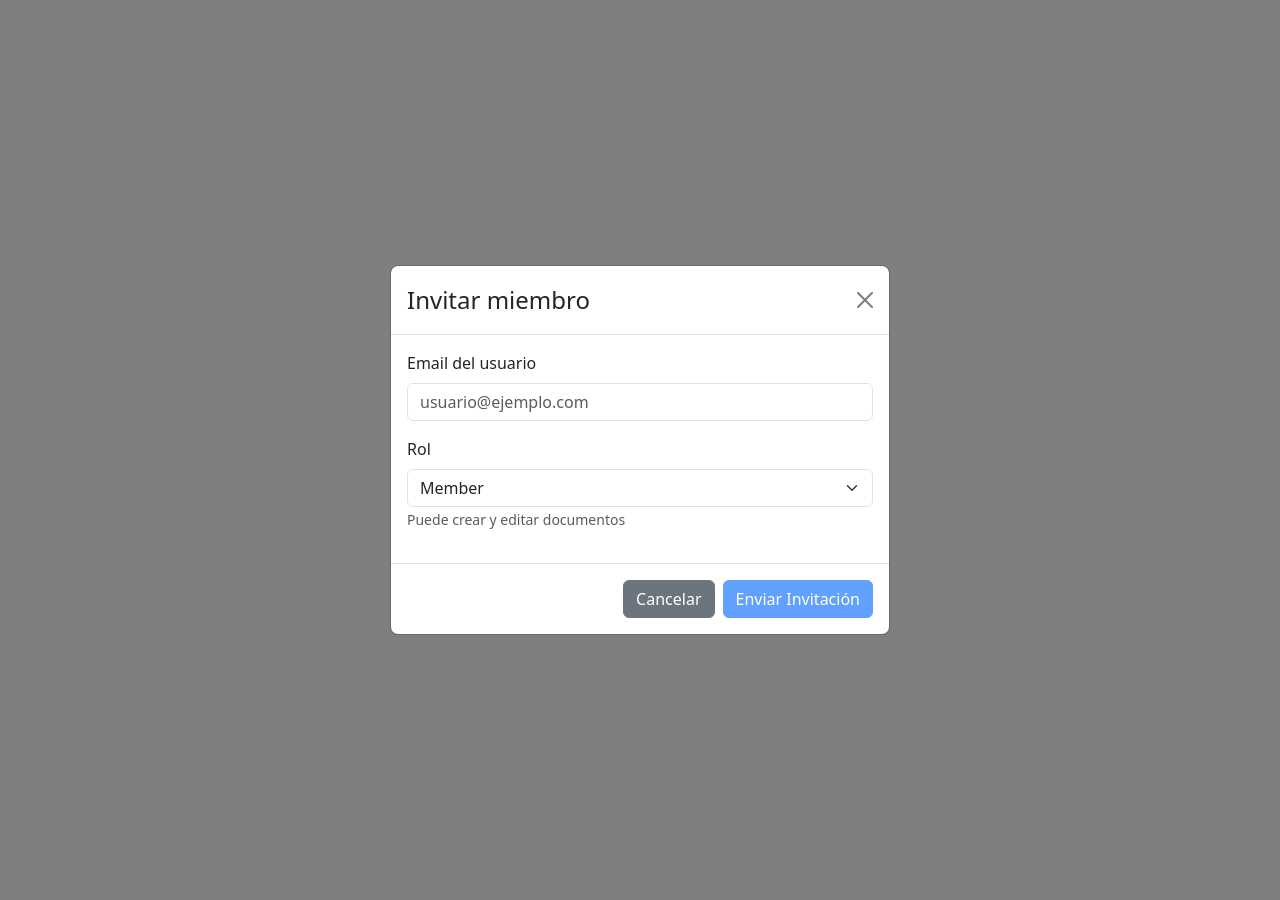
it: InviteMemberModal › Búsqueda de usuarios › busca usuario cuando se escribe un email válido
Type "test@example.com" into the field labelled "Email del usuario". click: (640, 402)
box: x1=407 y1=383 x2=873 y2=421
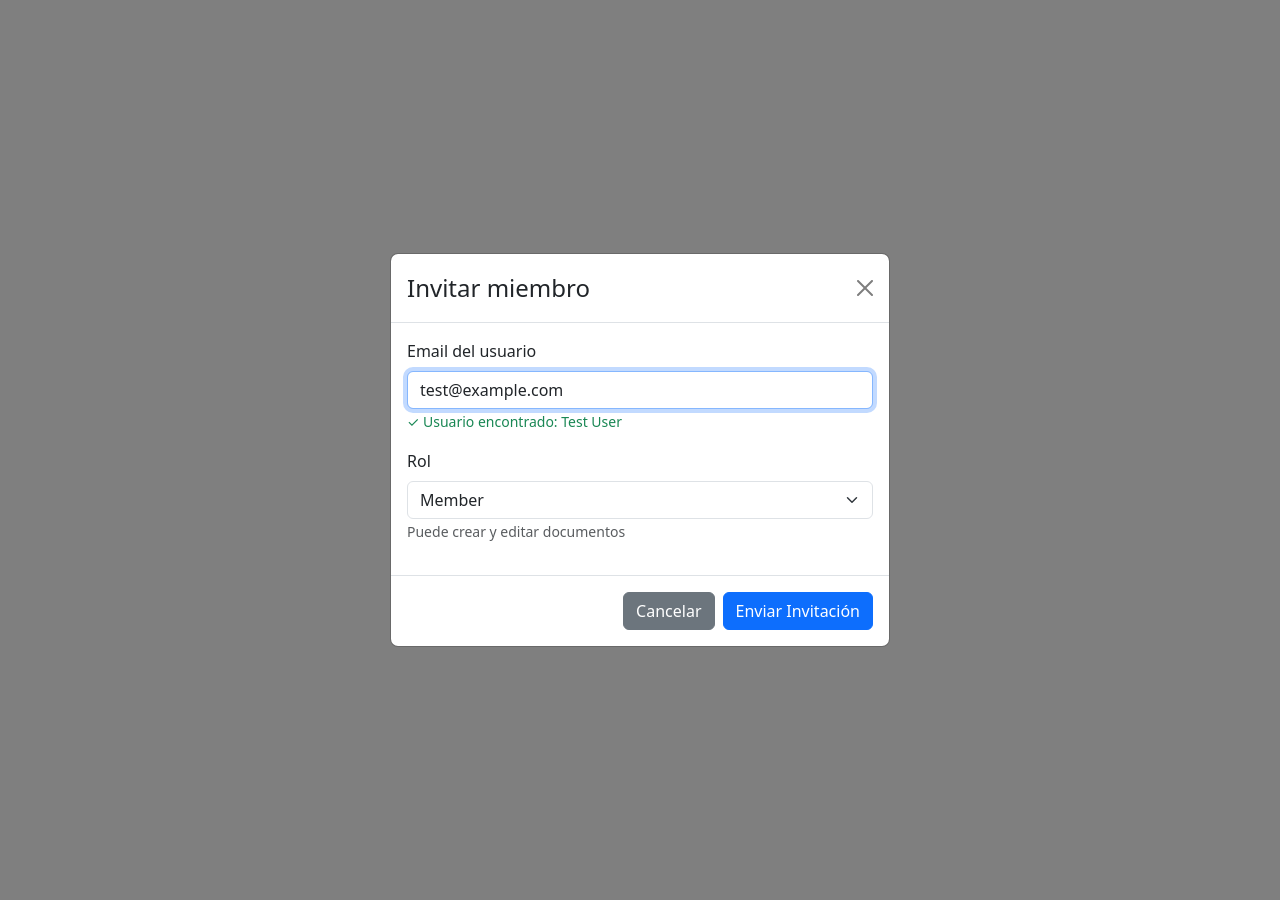
Expected: the text "✓ Usuario encontrado: Test User" is shown, x1=407 y1=412 x2=622 y2=431
